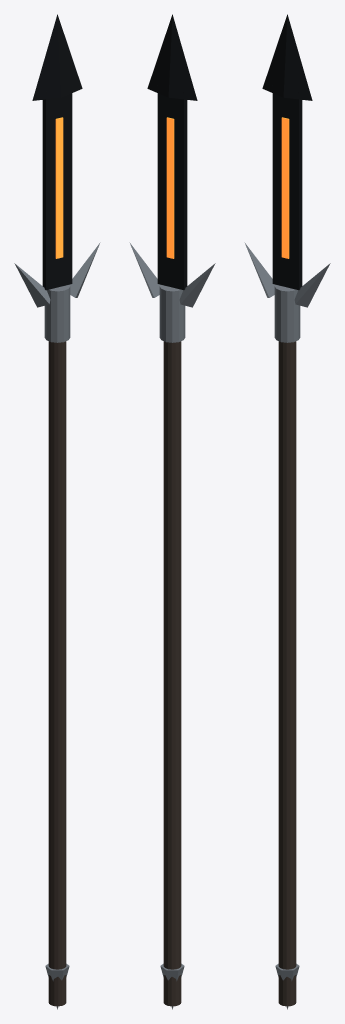
Rendered from WEAPON_031_Lanca_das_Cinzas_Abissais.glb.
3 views of the same model, side by side, from view 1: azimuth 30°, elevation 25°; view 2: azimuth 150°, elevation 25°; view 3: azimuth 330°, elevation 25° (orthographic).
Parts seen in each view (by area): view 1: Spear_Shaft, Spear_Blade, Cone.001, Cylinder, Cube, Cone.003, Cone.002, Cone; view 2: Spear_Shaft, Spear_Blade, Cone.001, Cylinder, Cube, Cone.003, Cone.002, Cone; view 3: Spear_Shaft, Spear_Blade, Cone.001, Cylinder, Cube, Cone.002, Cone.003, Cone.
Boxes of the visible parts, x1,y1,x2,y2 form: Spear_Shaft: [48, 341, 66, 1006]; Spear_Blade: [42, 85, 72, 290]; Cone.001: [32, 14, 82, 100]; Cylinder: [44, 284, 70, 342]; Cube: [55, 117, 63, 258]; Cone.003: [14, 263, 50, 307]; Cone.002: [70, 242, 100, 297]; Cone: [45, 963, 69, 1009]; Spear_Shaft: [163, 341, 181, 1006]; Spear_Blade: [157, 85, 187, 290]; Cone.001: [147, 14, 197, 100]; Cylinder: [159, 284, 185, 342]; Cube: [166, 117, 174, 258]; Cone.003: [179, 263, 215, 307]; Cone.002: [129, 242, 159, 297]; Cone: [160, 963, 184, 1009]; Spear_Shaft: [278, 341, 296, 1006]; Spear_Blade: [272, 85, 302, 290]; Cone.001: [262, 14, 312, 100]; Cylinder: [274, 284, 300, 342]; Cube: [281, 117, 289, 258]; Cone.002: [294, 263, 330, 307]; Cone.003: [244, 242, 274, 297]; Cone: [275, 963, 299, 1009].
Size of the model in its own units: 0.246 by 2.71 by 0.064.
